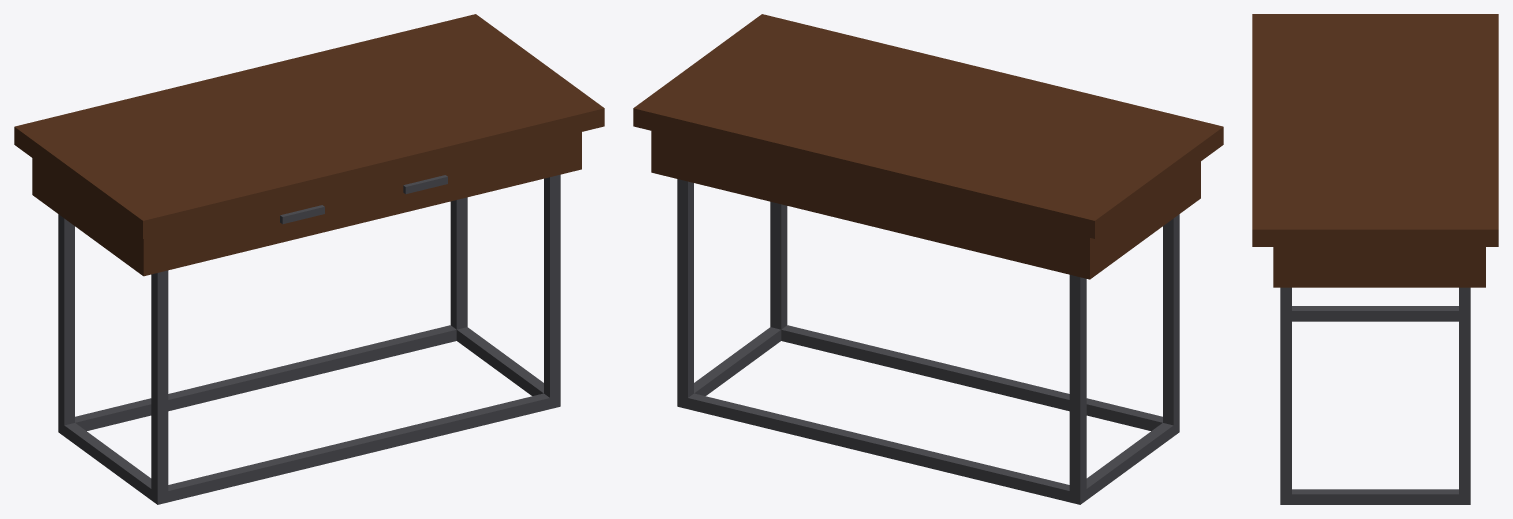
File: mesa-chocolate.glb
The picture shows the model from 3 angles, left to right: view 1: azimuth 30°, elevation 25°; view 2: azimuth 150°, elevation 25°; view 3: azimuth 270°, elevation 25°; orthographic projection. The views are drawn at different scales.
Parts seen in each view (by area): view 1: Mesa chocolate; view 2: Mesa chocolate; view 3: Mesa chocolate.
Boxes of the visible parts, left/top/right/bottom form: Mesa chocolate: left=14, top=14, right=604, bottom=504; Mesa chocolate: left=633, top=14, right=1223, bottom=504; Mesa chocolate: left=1252, top=14, right=1498, bottom=504.
Bounding box in the file's own units: 1.2 × 0.75 × 0.58.
